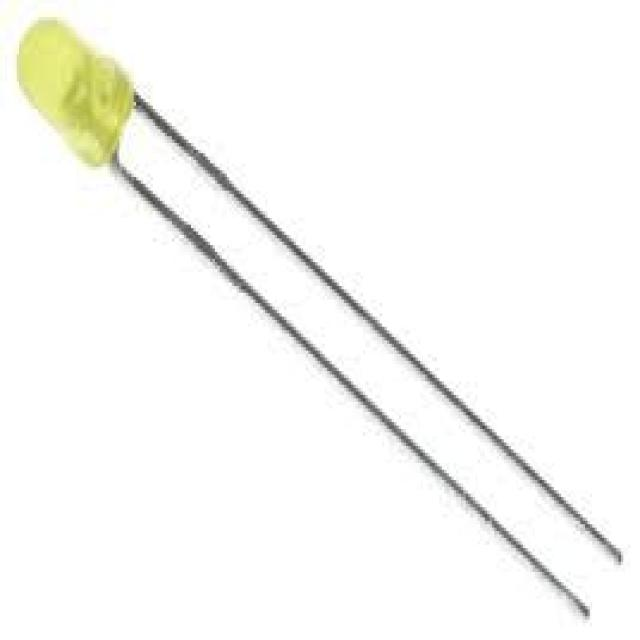Led: (21, 20, 619, 616)
